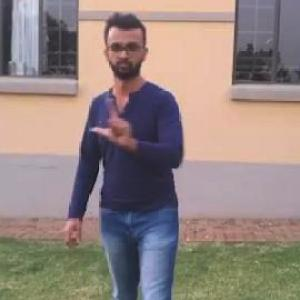land_hand: (88, 90, 139, 147)
